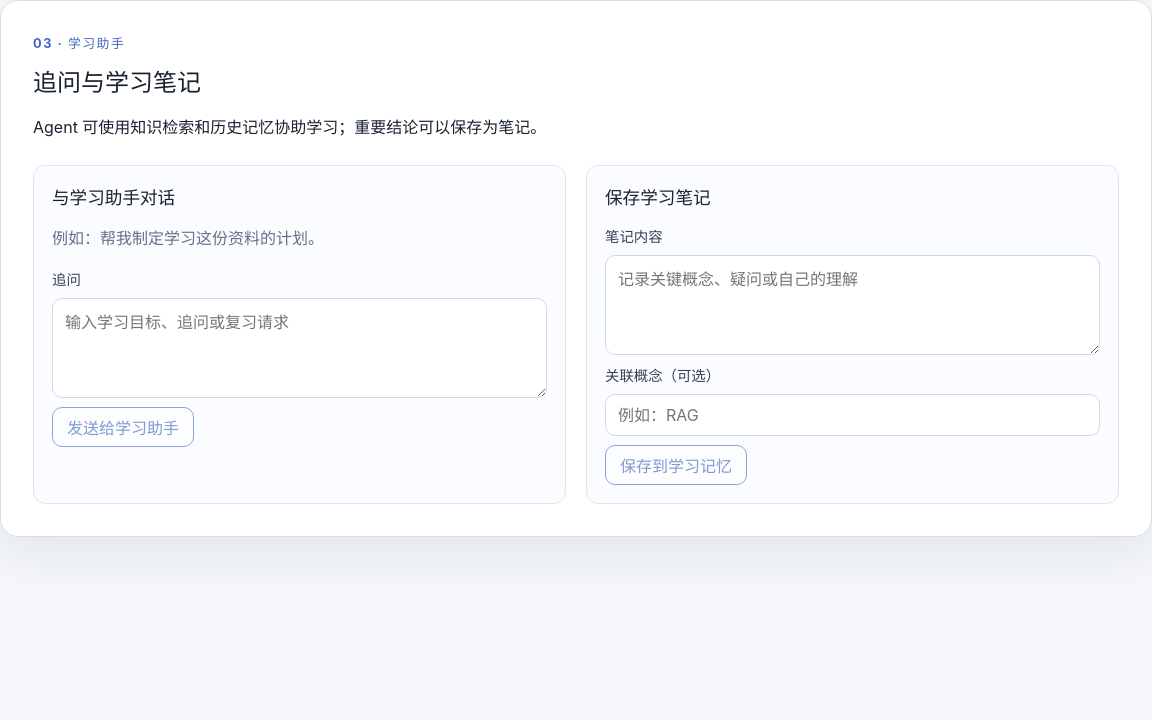
Test: LearningAssistant › 发送追问并展示学习助手回答
Type "我应该如何学习 RAG？" into the text box labelled "追问" at (300, 348), box [52, 298, 547, 398]
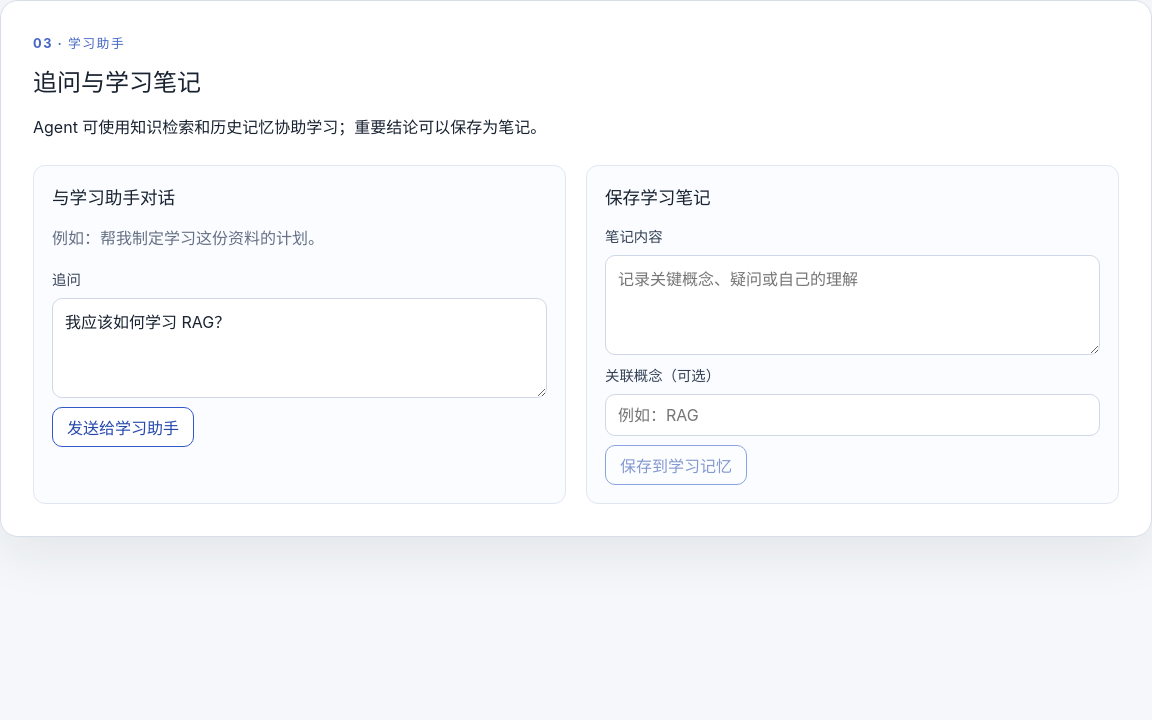
Click the button "发送给学习助手" at (123, 427), box [52, 407, 194, 447]
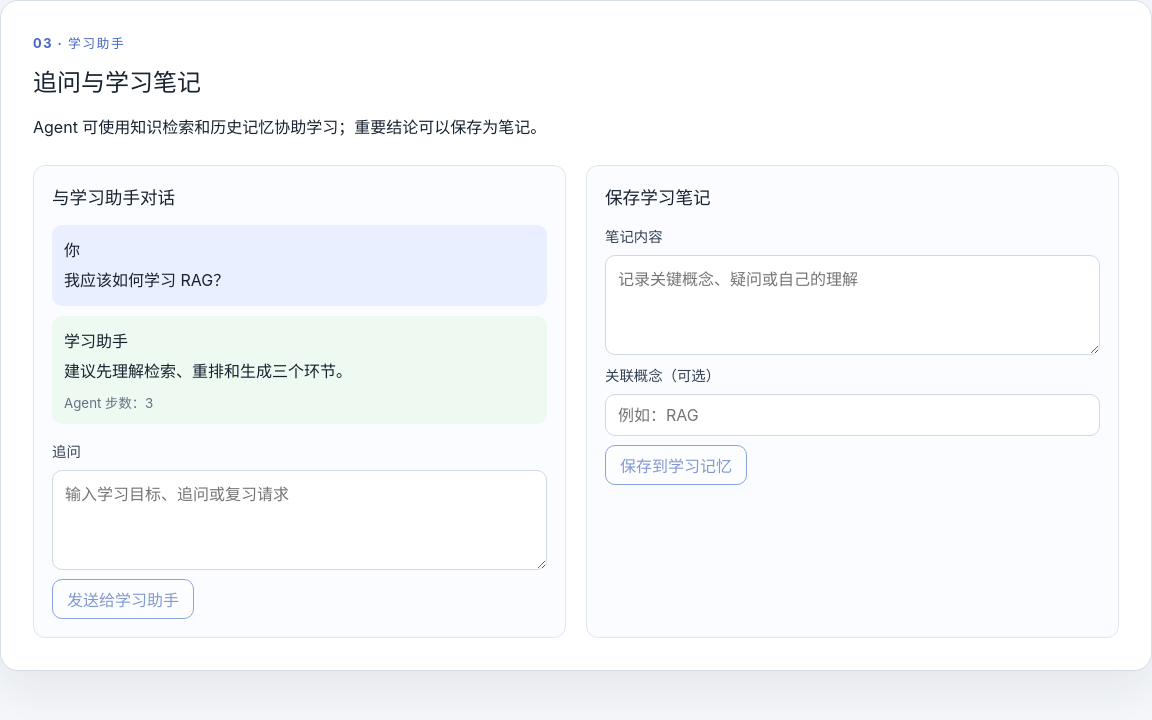
Result: the text "建议先理解检索、重排和生成三个环节。" is shown at [64, 361, 352, 381]
Result: the text "Agent 步数：3" is shown at [64, 395, 153, 411]
